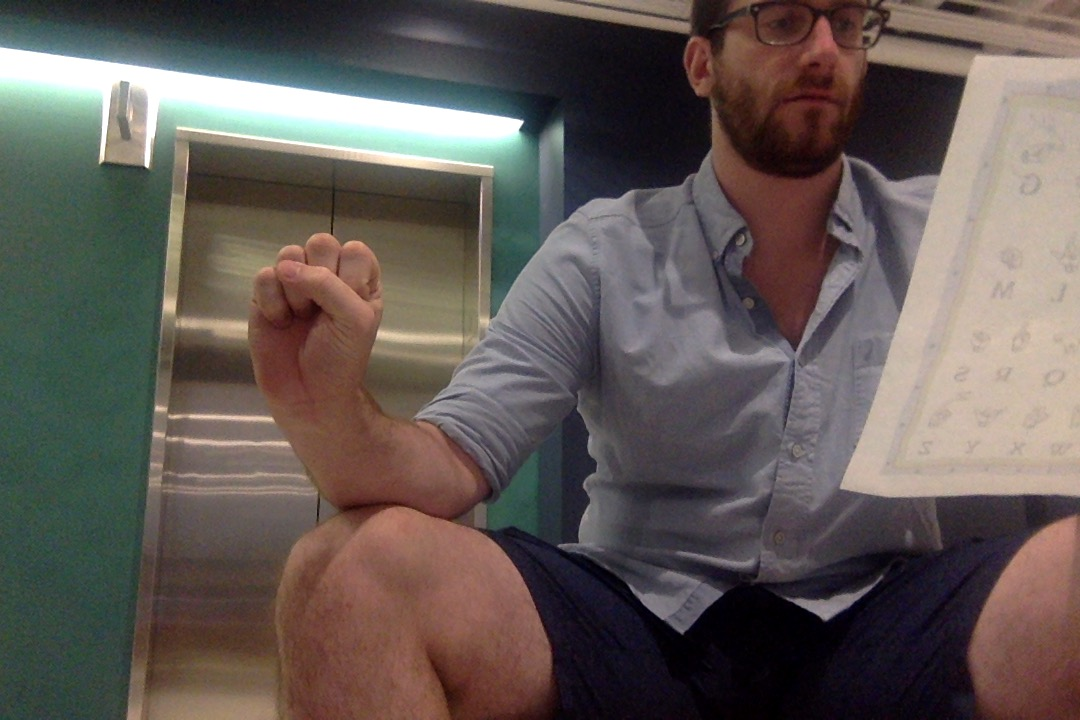s: (241, 228, 389, 413)
